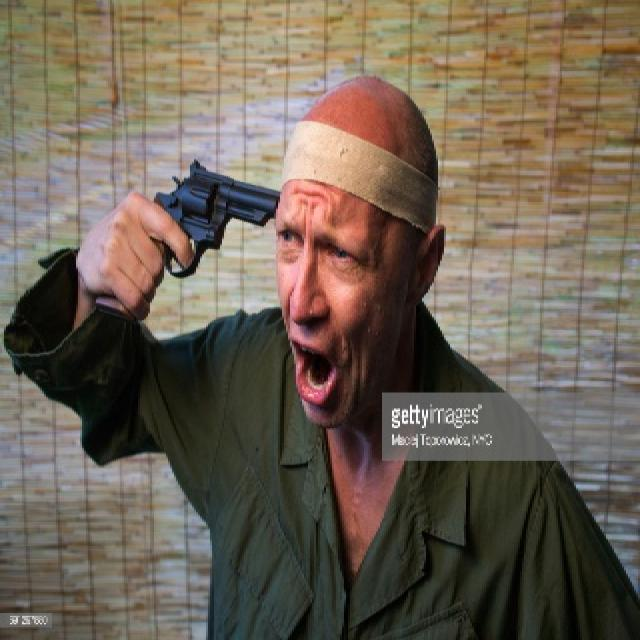handgun: (135, 162, 277, 277)
